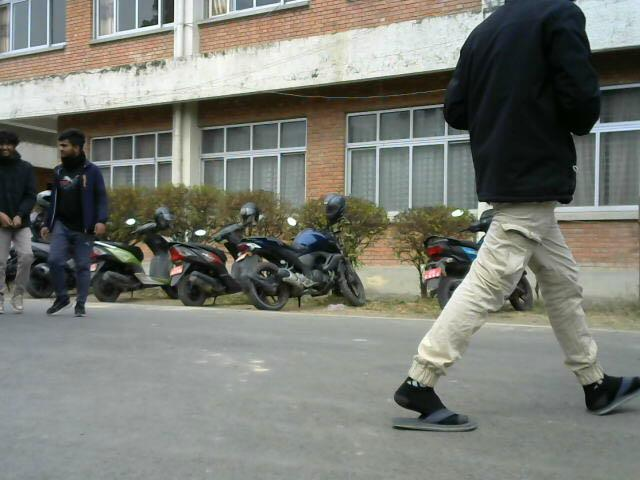Building: (1, 0, 444, 220)
Motorcycle: (241, 191, 399, 316), (95, 214, 187, 301), (164, 230, 261, 308)
Person: (380, 4, 638, 439), (46, 128, 99, 336), (0, 119, 33, 327)
Road: (14, 313, 640, 480)
